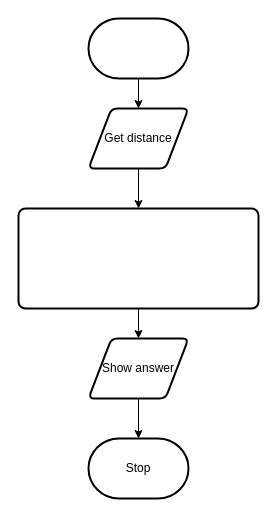
Image size: 276x516. Some labels were removed from this diagram. Here are the shapes that lost their labels. From the top down, the centre of each, then its label:
At point 138,48: "Start".
At point 138,258: "C= TAU x r".
